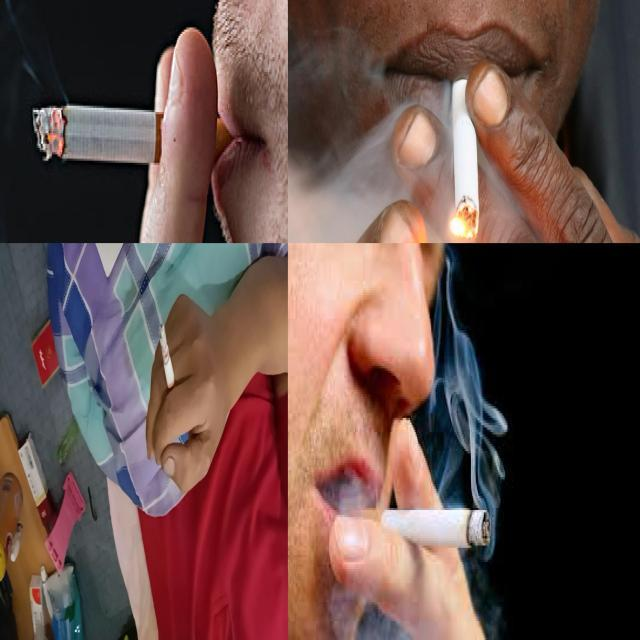smoking: (31, 104, 246, 172), (336, 508, 491, 548), (451, 58, 482, 237), (159, 324, 178, 410)
